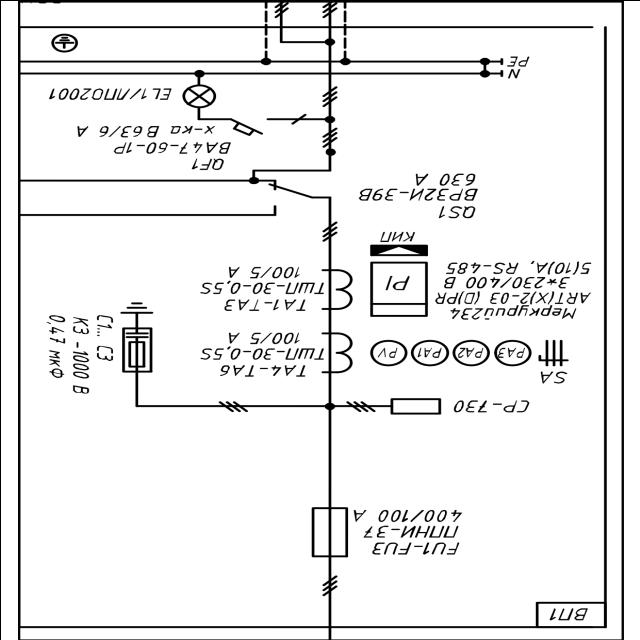-: (435, 260, 593, 320), (74, 122, 231, 154), (195, 262, 325, 296), (196, 328, 324, 362), (360, 170, 482, 202), (348, 506, 462, 540), (45, 84, 171, 104), (452, 394, 530, 415), (544, 602, 592, 622)
FU: (306, 503, 351, 561)
HL: (180, 82, 218, 110)
K: (385, 395, 443, 416)
PA: (450, 336, 492, 366), (407, 338, 449, 368), (491, 338, 533, 368)
PV: (366, 334, 410, 368)
QF: (227, 112, 276, 136)
S: (534, 337, 572, 385)
TT: (322, 329, 356, 376), (319, 266, 353, 312)
WH: (366, 258, 430, 316)
switch: (265, 179, 315, 212)
